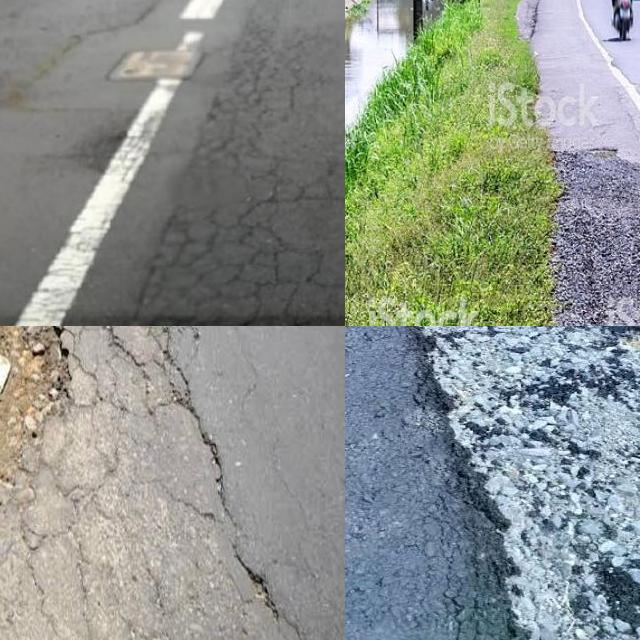Pinggir: (384, 326, 613, 640), (0, 326, 201, 582), (509, 139, 640, 326)
Retak Buaya: (136, 44, 345, 326)
